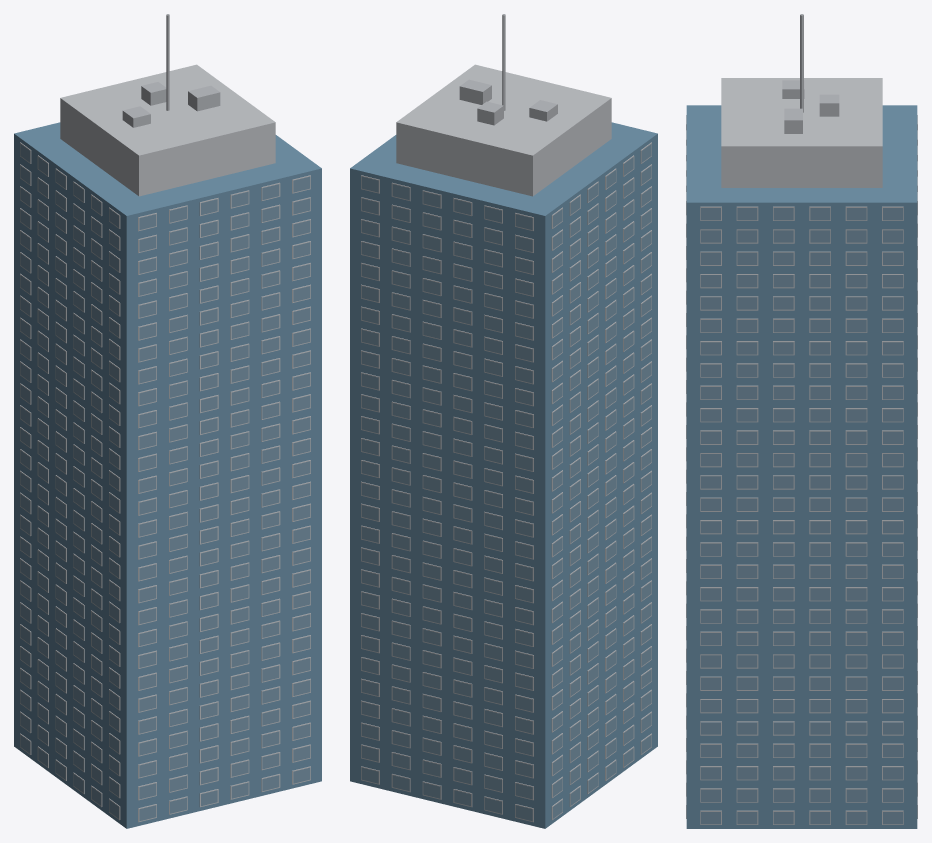
Rendered from tower.glb.
3 renders of one model, left to right at view 1: azimuth 30°, elevation 25°; view 2: azimuth 150°, elevation 25°; view 3: azimuth 270°, elevation 25°, orthographic. The views are drawn at different scales.
Visible parts, largest first — view 1: Cube, Cube.002, Cube.001, Cube.1345, Cube.1346; view 2: Cube, Cube.002, Cube.001, Cube.1345, Cube.1346; view 3: Cube, Cube.002, Cube.001, Cube.1345, Cube.1346.
Boxes of the visible parts, left/top/right/bottom form: Cube: left=14, top=122, right=321, bottom=828; Cube.002: left=20, top=144, right=310, bottom=821; Cube.001: left=20, top=142, right=310, bottom=822; Cube.1345: left=60, top=64, right=275, bottom=196; Cube.1346: left=122, top=82, right=220, bottom=127; Cube: left=350, top=122, right=657, bottom=828; Cube.002: left=361, top=144, right=651, bottom=821; Cube.001: left=361, top=142, right=651, bottom=822; Cube.1345: left=396, top=64, right=611, bottom=196; Cube.1346: left=459, top=79, right=557, bottom=125; Cube: left=686, top=105, right=917, bottom=828; Cube.002: left=701, top=208, right=902, bottom=824; Cube.001: left=686, top=115, right=917, bottom=824; Cube.1345: left=721, top=78, right=882, bottom=187; Cube.1346: left=782, top=80, right=839, bottom=133.
Bounding box in the file's own units: 30.2 × 110 × 30.2.
